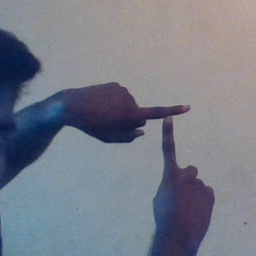T: (114, 85, 218, 201)
